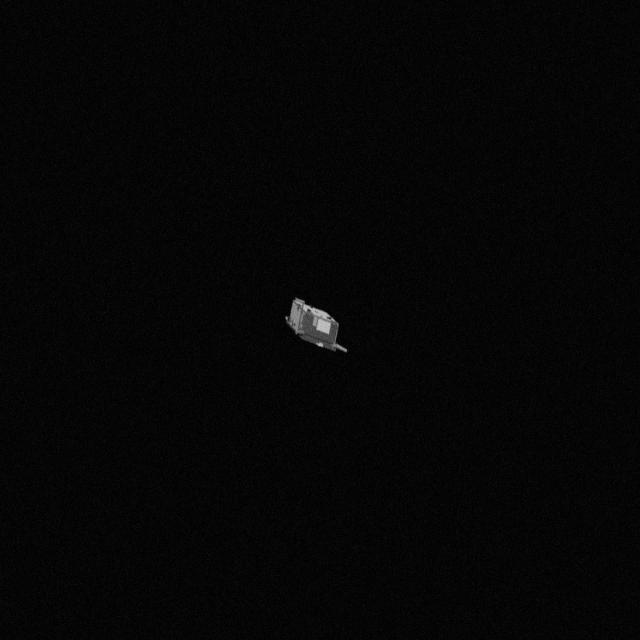medium_debris: (276, 282, 356, 358)
